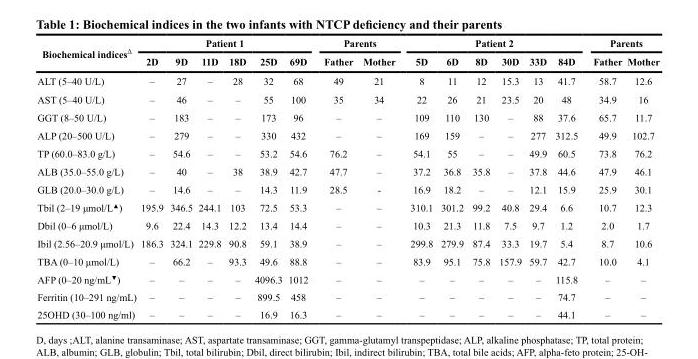table: (36, 36, 658, 319)
table column: (36, 36, 137, 319), (357, 36, 402, 319), (315, 36, 357, 319), (584, 36, 623, 319), (249, 36, 284, 319), (623, 36, 658, 319), (402, 36, 436, 319), (550, 36, 584, 319), (284, 36, 315, 319), (436, 36, 467, 319), (493, 36, 524, 319), (194, 36, 224, 319), (137, 36, 166, 319), (166, 36, 194, 319), (467, 36, 493, 319), (524, 36, 550, 319), (224, 36, 249, 319)
table column header: (36, 36, 658, 70)
table row: (36, 51, 658, 70), (36, 70, 658, 89), (36, 89, 658, 108), (36, 108, 658, 126), (36, 126, 658, 144), (36, 144, 658, 162), (36, 162, 658, 180), (36, 180, 658, 198), (36, 198, 658, 216), (36, 216, 658, 234), (36, 234, 658, 252), (36, 252, 658, 270), (36, 287, 658, 305), (36, 270, 658, 287), (36, 36, 658, 51), (36, 305, 658, 319)
table spanning cell: (36, 36, 137, 70), (402, 36, 584, 51), (137, 36, 315, 51), (315, 36, 402, 51), (584, 36, 658, 51)
